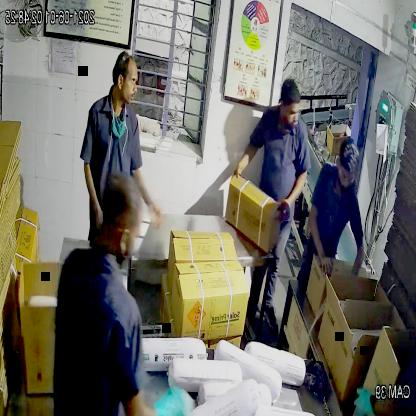no_goggles: (110, 70, 141, 93)
